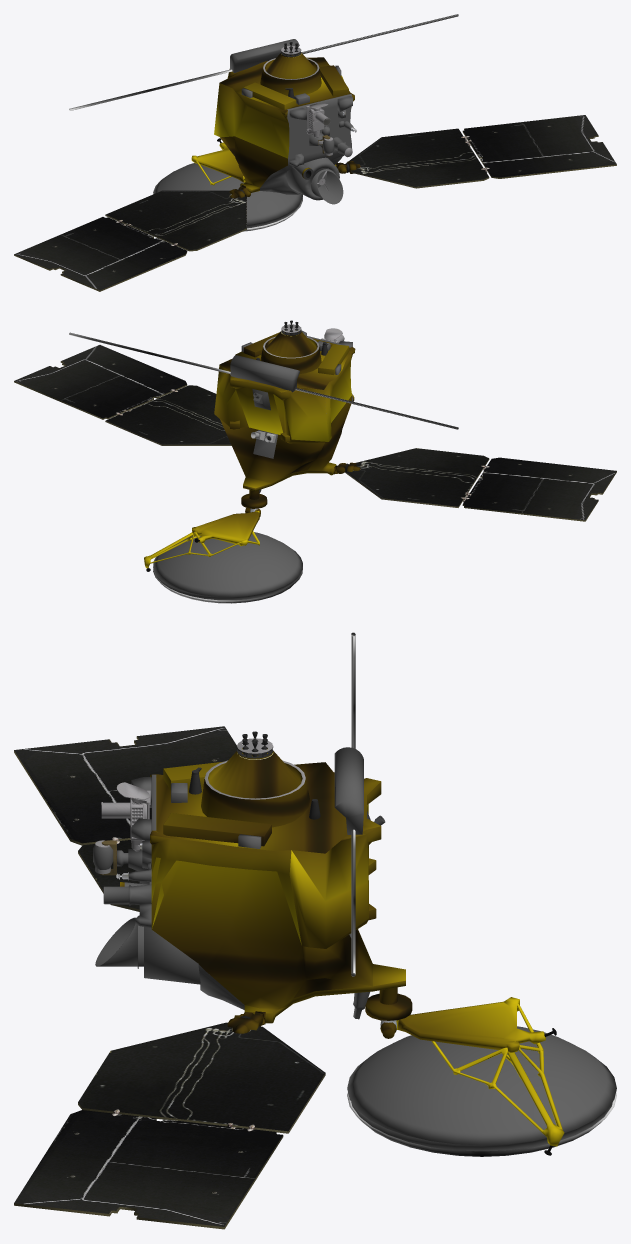
The model's file is Mars Reconnaissance Orbiter.glb.
The picture shows the model from 3 angles, top to bottom: view 1: azimuth 30°, elevation 25°; view 2: azimuth 150°, elevation 25°; view 3: azimuth 270°, elevation 25°; orthographic projection. The views are drawn at different scales.
Parts seen in each view (by area): view 1: tex_01, tex_02, foil_gold, black_krinkle, foil_silver; view 2: foil_gold, tex_01, tex_02, black_krinkle, foil_silver, foil_silver2; view 3: foil_gold, tex_01, black_krinkle, tex_02, foil_silver, foil_silver2.
Boxes of the visible parts, left/top/right/bottom form: tex_01: left=14, top=45, right=616, bottom=291; tex_02: left=106, top=128, right=488, bottom=249; foil_gold: left=191, top=52, right=360, bottom=198; black_krinkle: left=153, top=39, right=353, bottom=228; foil_silver: left=69, top=14, right=458, bottom=193; foil_gold: left=144, top=331, right=360, bottom=568; tex_01: left=14, top=324, right=616, bottom=571; tex_02: left=106, top=385, right=488, bottom=506; black_krinkle: left=153, top=330, right=352, bottom=600; foil_silver: left=69, top=320, right=458, bottom=472; foil_silver2: left=153, top=567, right=302, bottom=603; foil_gold: left=120, top=748, right=564, bottom=1146; tex_01: left=14, top=726, right=556, bottom=1229; black_krinkle: left=93, top=747, right=616, bottom=1151; tex_02: left=78, top=840, right=325, bottom=1131; foil_silver: left=189, top=632, right=385, bottom=1018; foil_silver2: left=347, top=1092, right=616, bottom=1156.
Size of the model in its own units: 13.18 by 4.88 by 6.71.
7 materials, 6 textured.
